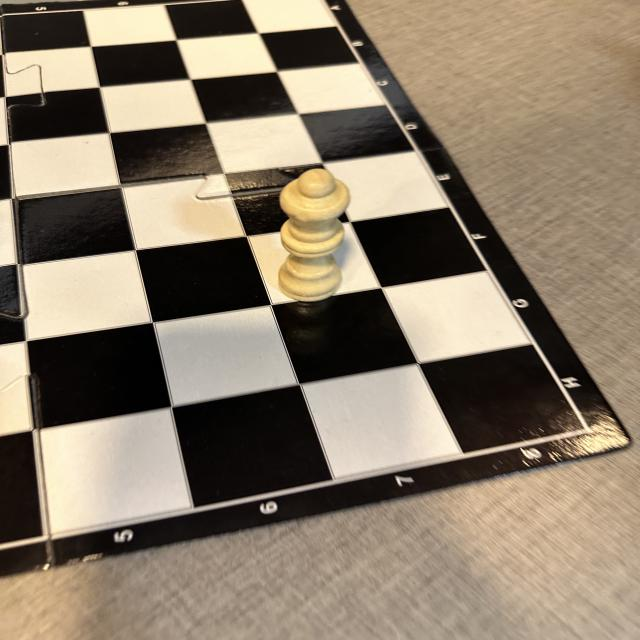White-Queen: (278, 168, 351, 303)
